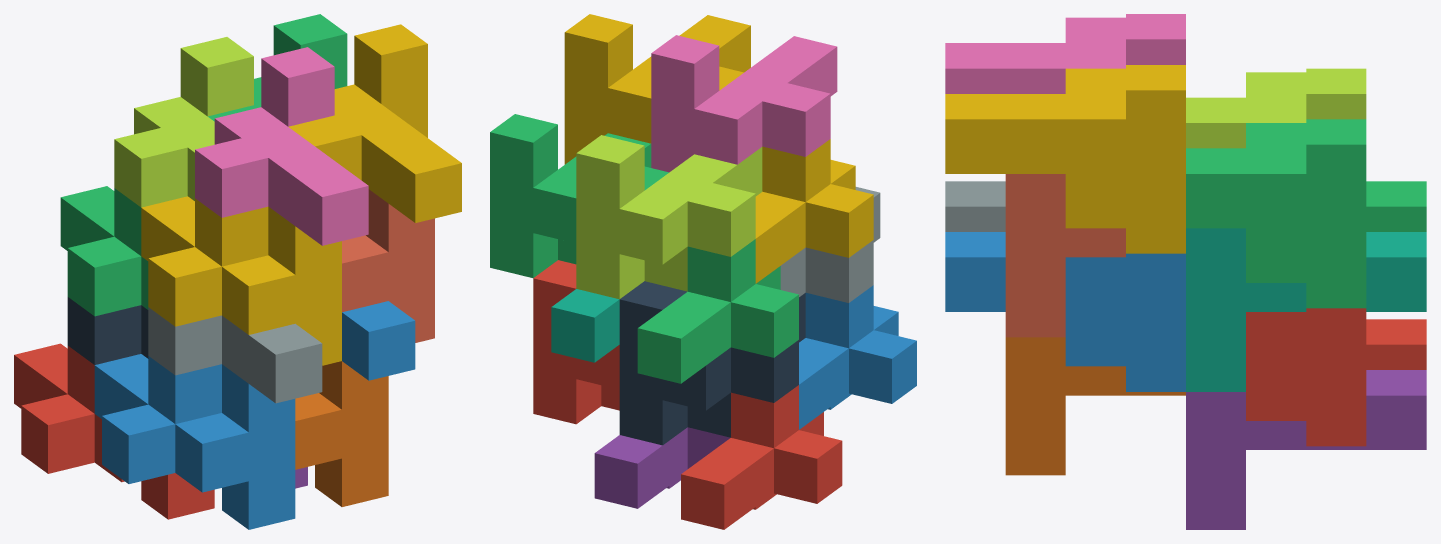
File: tiling.obj
3 views of the same model, side by side, from view 1: azimuth 30°, elevation 25°; view 2: azimuth 150°, elevation 25°; view 3: azimuth 270°, elevation 25° (orthographic). The views are drawn at different scales.
Visible parts, largest first — view 1: copy_1_domain_2, copy_1_domain_4, copy_2_domain_4, copy_2_domain_8, copy_2_domain_3, copy_1_domain_1, copy_1_domain_6, copy_2_domain_2, copy_1_domain_3, copy_1_domain_8, copy_2_domain_6, copy_2_domain_1 (+1 smaller); view 2: copy_2_domain_3, copy_2_domain_4, copy_1_domain_1, copy_1_domain_3, copy_2_domain_1, copy_2_domain_7, copy_2_domain_8, copy_1_domain_4, copy_1_domain_2, copy_2_domain_5, copy_1_domain_5, copy_2_domain_2 (+1 smaller); view 3: copy_2_domain_8, copy_2_domain_7, copy_2_domain_6, copy_1_domain_7, copy_1_domain_5, copy_2_domain_5, copy_2_domain_4, copy_1_domain_8, copy_1_domain_6, copy_2_domain_3, copy_1_domain_1, copy_1_domain_3 (+1 smaller).
Part boxes in pixels (bbox=[...]): copy_1_domain_2: bbox=[94, 354, 295, 529]; copy_1_domain_4: bbox=[141, 196, 341, 365]; copy_2_domain_4: bbox=[195, 47, 368, 245]; copy_2_domain_8: bbox=[288, 24, 461, 222]; copy_2_domain_3: bbox=[114, 37, 253, 207]; copy_1_domain_1: bbox=[14, 343, 214, 519]; copy_1_domain_6: bbox=[295, 361, 388, 506]; copy_2_domain_2: bbox=[148, 307, 322, 403]; copy_1_domain_3: bbox=[60, 186, 148, 316]; copy_1_domain_8: bbox=[342, 189, 434, 342]; copy_2_domain_6: bbox=[342, 301, 415, 380]; copy_2_domain_1: bbox=[67, 297, 148, 364]; copy_2_domain_3: bbox=[576, 135, 762, 299]; copy_2_domain_4: bbox=[651, 35, 837, 172]; copy_1_domain_1: bbox=[681, 385, 842, 529]; copy_1_domain_3: bbox=[637, 239, 798, 383]; copy_2_domain_1: bbox=[619, 281, 805, 445]; copy_2_domain_7: bbox=[490, 114, 668, 277]; copy_2_domain_8: bbox=[564, 14, 750, 164]; copy_1_domain_4: bbox=[755, 139, 873, 283]; copy_1_domain_2: bbox=[799, 285, 916, 429]; copy_2_domain_5: bbox=[533, 260, 619, 424]; copy_1_domain_5: bbox=[594, 427, 730, 508]; copy_2_domain_2: bbox=[780, 187, 880, 302]; copy_2_domain_8: bbox=[945, 65, 1185, 253]; copy_2_domain_7: bbox=[1186, 119, 1366, 308]; copy_2_domain_6: bbox=[945, 232, 1185, 391]; copy_1_domain_7: bbox=[1186, 228, 1426, 391]; copy_1_domain_5: bbox=[1186, 370, 1426, 529]; copy_2_domain_5: bbox=[1246, 308, 1366, 446]; copy_2_domain_4: bbox=[945, 14, 1185, 93]; copy_1_domain_8: bbox=[1005, 174, 1125, 337]; copy_1_domain_6: bbox=[1005, 337, 1185, 475]; copy_2_domain_3: bbox=[1186, 68, 1366, 148]; copy_1_domain_1: bbox=[1366, 319, 1426, 369]; copy_1_domain_3: bbox=[1366, 181, 1426, 231].
Bounding box in the file's own units: 7 × 9 × 8.
